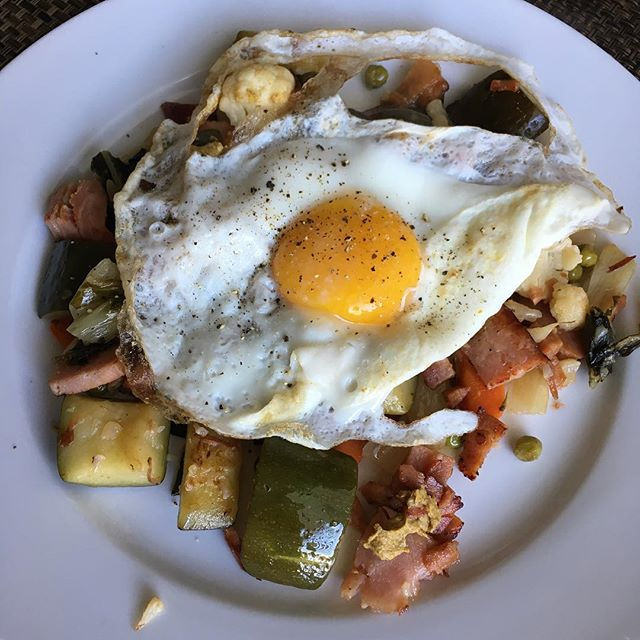fried egg: (108, 62, 604, 438)
